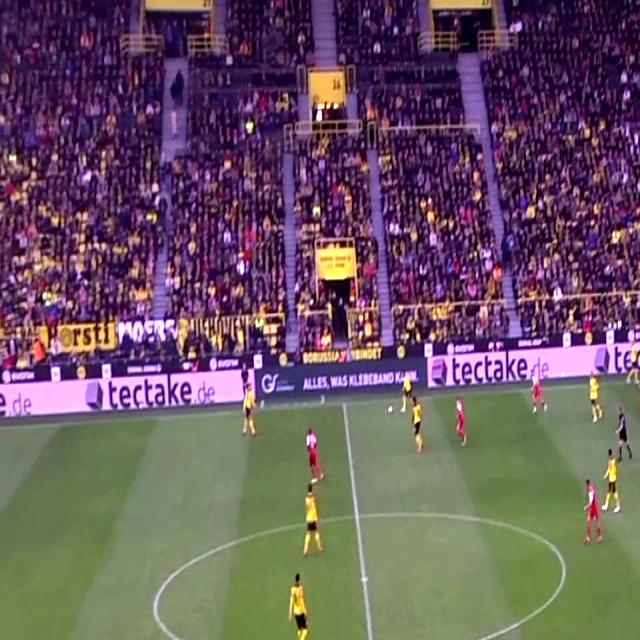ball: (387, 398, 396, 420)
referee: (612, 400, 630, 467)
soccer-player: (286, 562, 314, 640), (578, 472, 603, 553), (300, 486, 325, 566), (302, 419, 324, 490), (240, 360, 258, 443), (607, 445, 625, 523), (528, 355, 549, 420), (452, 393, 469, 453), (586, 365, 602, 428), (404, 364, 422, 418), (411, 394, 426, 456), (638, 376, 640, 441)
